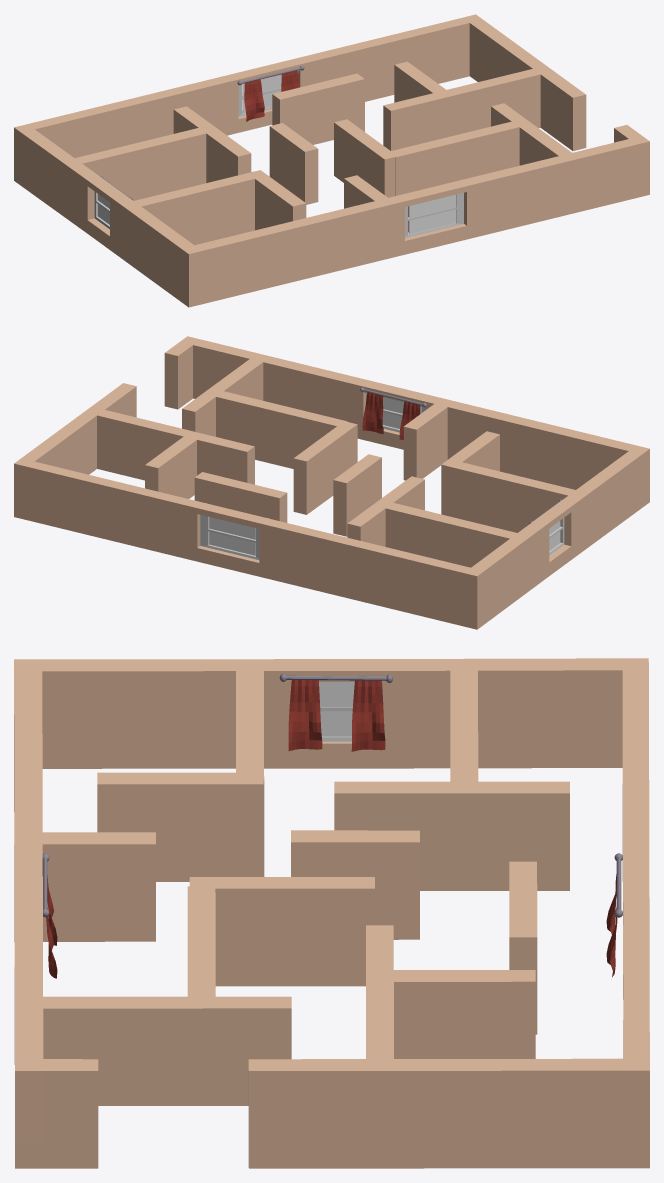
Rendered from Level 10.fbx.
3 views of the same model, one above another, from view 1: azimuth 30°, elevation 25°; view 2: azimuth 150°, elevation 25°; view 3: azimuth 270°, elevation 25° (orthographic). The views are drawn at different scales.
Visible parts, largest first — view 1: polySurface63, polySurface50, pasted__wind1, pasted__pasted__clowt1; view 2: polySurface63, pasted__wind1, polySurface50, pasted__pasted__clowt1; view 3: polySurface63, pasted__pasted__clowt1, polySurface50, pasted__wind1.
Part boxes in pixels (x1=…): polySurface63: x1=14, y1=14, x2=649, y2=307; polySurface50: x1=237, y1=66, x2=304, y2=121; pasted__wind1: x1=405, y1=192, x2=463, y2=238; pasted__pasted__clowt1: x1=94, y1=176, x2=132, y2=229; polySurface63: x1=14, y1=336, x2=649, y2=629; pasted__wind1: x1=360, y1=387, x2=426, y2=439; polySurface50: x1=200, y1=502, x2=268, y2=559; pasted__pasted__clowt1: x1=529, y1=499, x2=564, y2=555; polySurface63: x1=14, y1=658, x2=649, y2=1168; pasted__pasted__clowt1: x1=279, y1=673, x2=392, y2=751; polySurface50: x1=606, y1=853, x2=622, y2=977; pasted__wind1: x1=42, y1=853, x2=57, y2=978.
Size of the model in its own units: 154 by 16.93 by 99.98.
